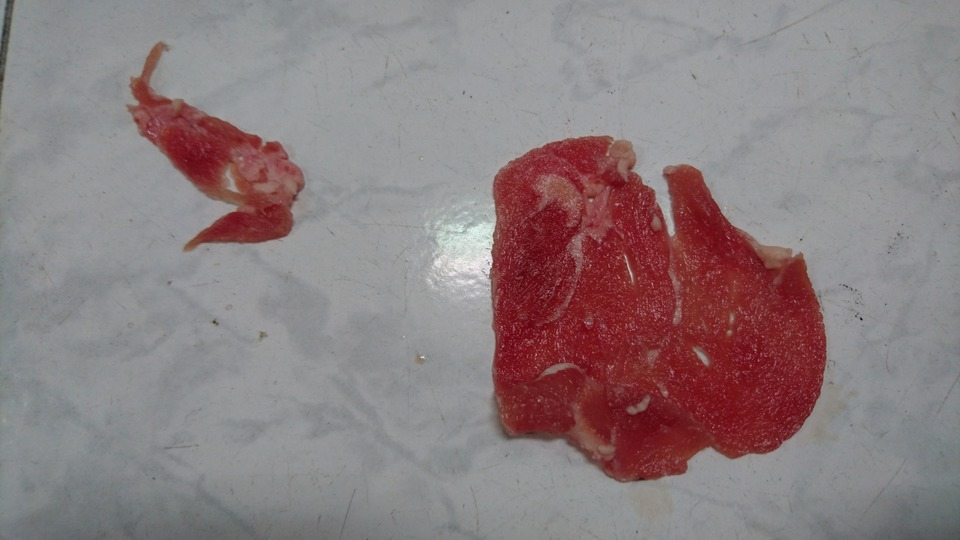restructured meat: (464, 122, 831, 487), (112, 60, 304, 264)
